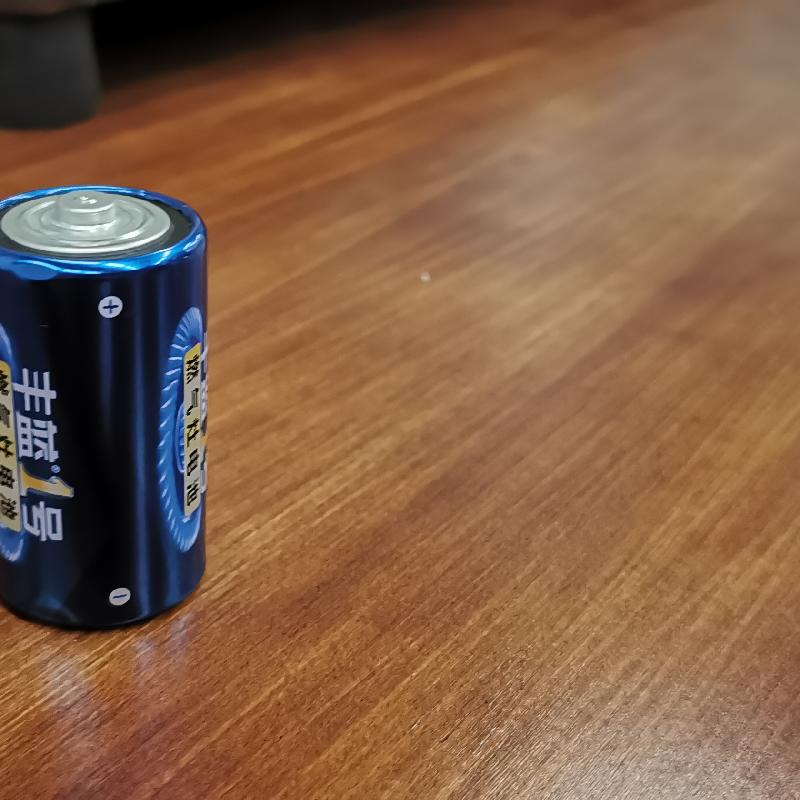battery: (2, 178, 214, 636)
